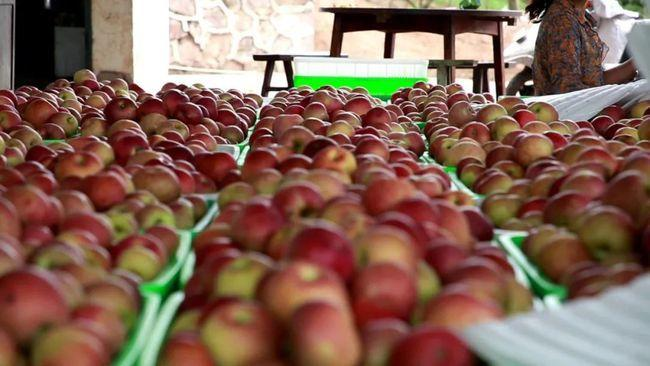apple: (200, 297, 283, 362), (267, 259, 342, 319), (351, 262, 415, 326), (577, 207, 635, 258), (214, 253, 274, 299), (132, 163, 181, 202), (309, 143, 357, 173), (53, 151, 102, 180), (281, 126, 316, 157), (46, 110, 80, 137), (104, 97, 137, 124), (448, 100, 477, 127), (13, 126, 44, 151), (459, 120, 491, 143), (528, 101, 560, 123), (157, 118, 190, 139), (436, 138, 457, 160)
